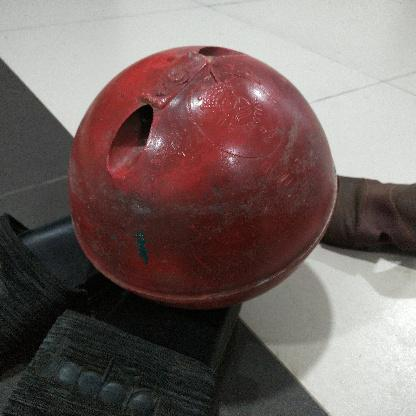red_buoy: (63, 39, 337, 309)
